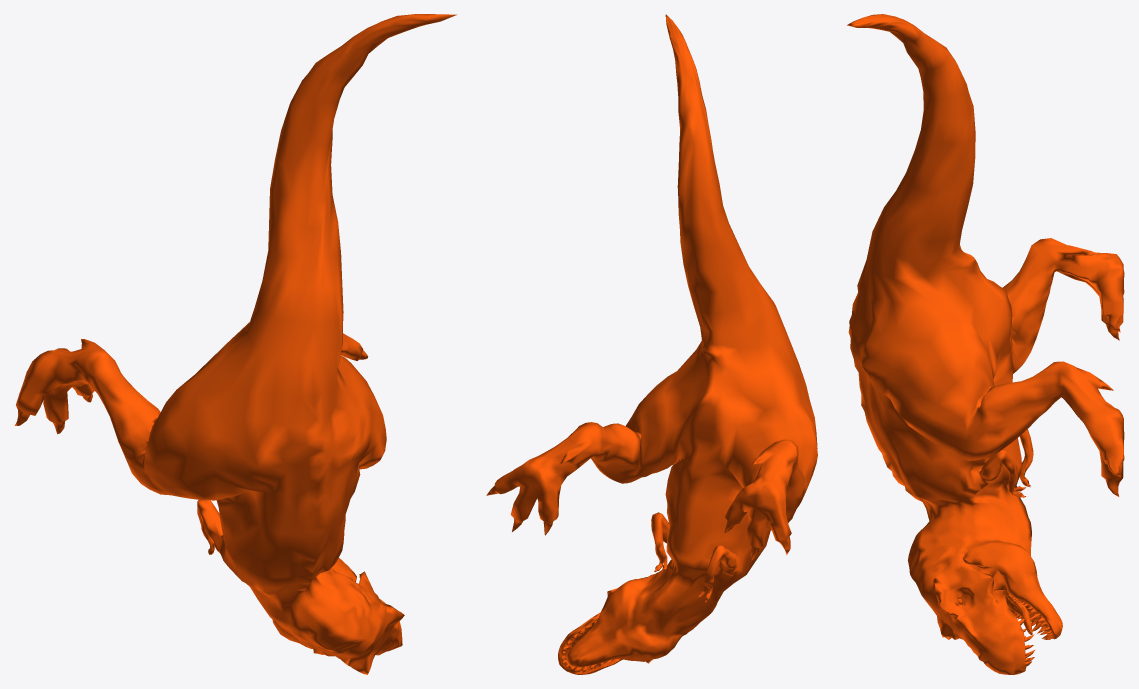
File: TyrannosaurusRex.gltf
3 renders of one model, left to right at view 1: azimuth 30°, elevation 25°; view 2: azimuth 150°, elevation 25°; view 3: azimuth 270°, elevation 25°, orthographic. The views are drawn at different scales.
Size of the model in its own units: 5156 by 9863 by 3869.
